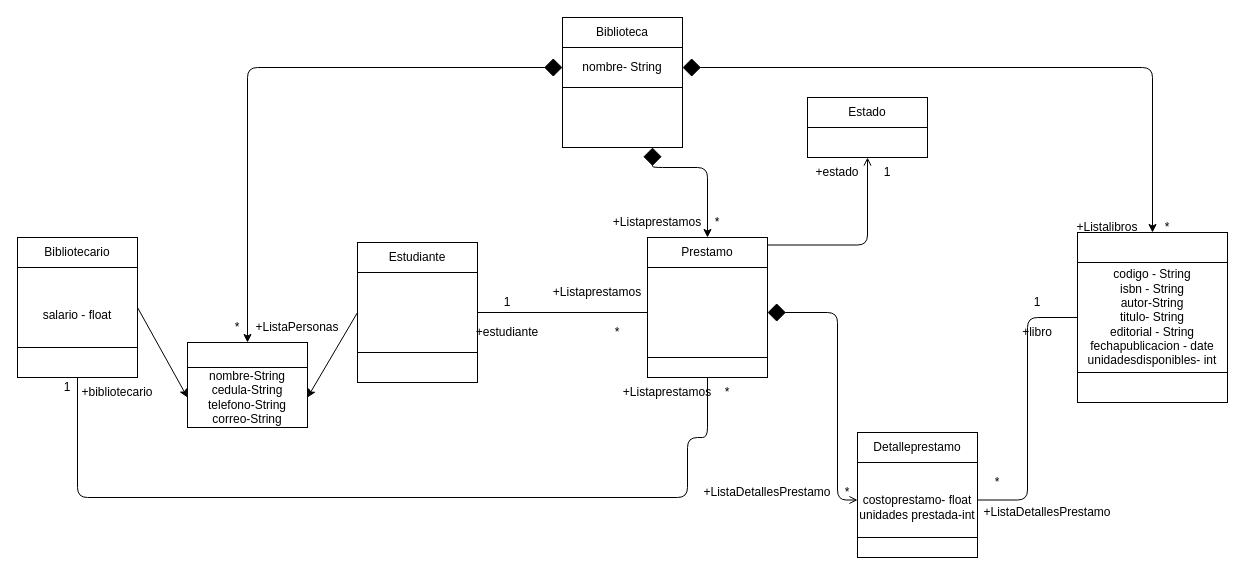
The diagram is 1245 pixels wide and 575 high, and some of its shapes have lost their labels. The centre of each missing label's shape, as x and y in pixels:
codigo - texto fechaprestamo - date fechaentrega - date costototal- float: the point at 707,312
ENTREGADO NOENTREGADO: the point at 867,142
equals(codigo): the point at 1152,387
Libro: the point at 1152,247
Persona: the point at 247,355
programa- String: the point at 417,312
